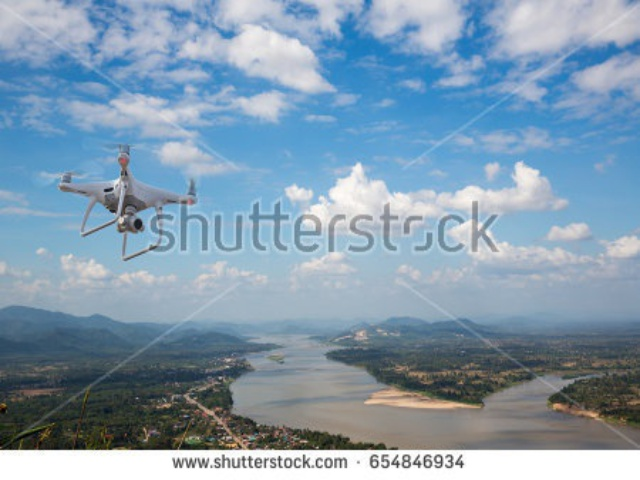drone: (38, 132, 205, 265)
